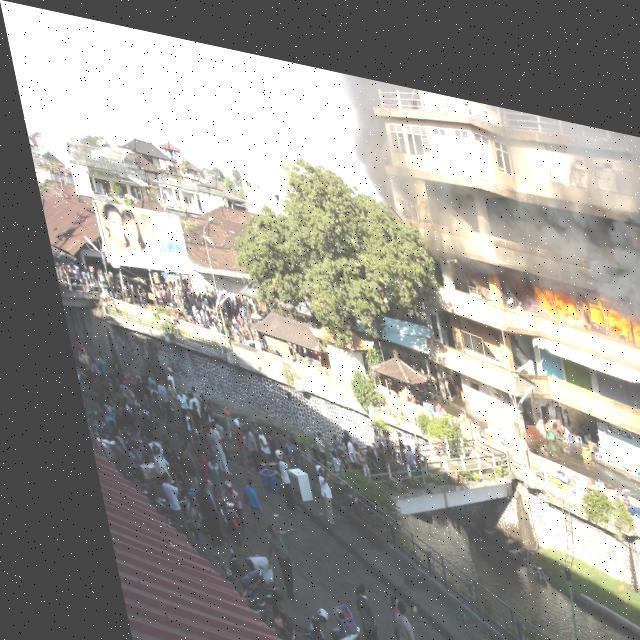Fire: (524, 257, 639, 331)
